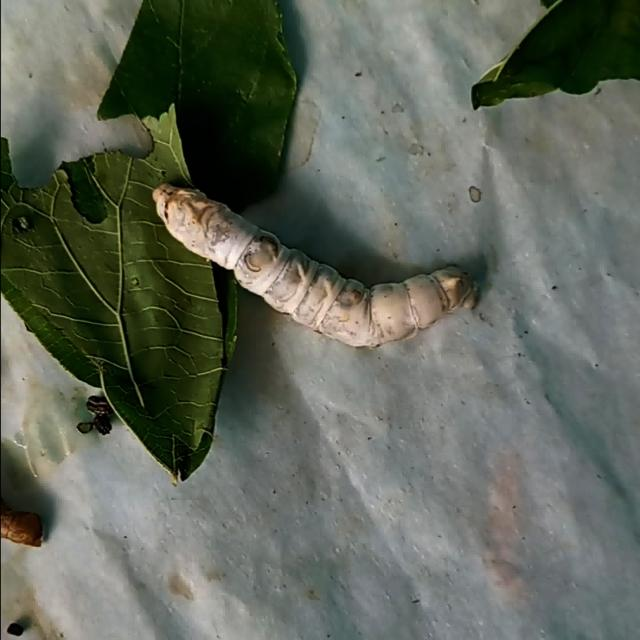Grasserie: (144, 159, 482, 354)
